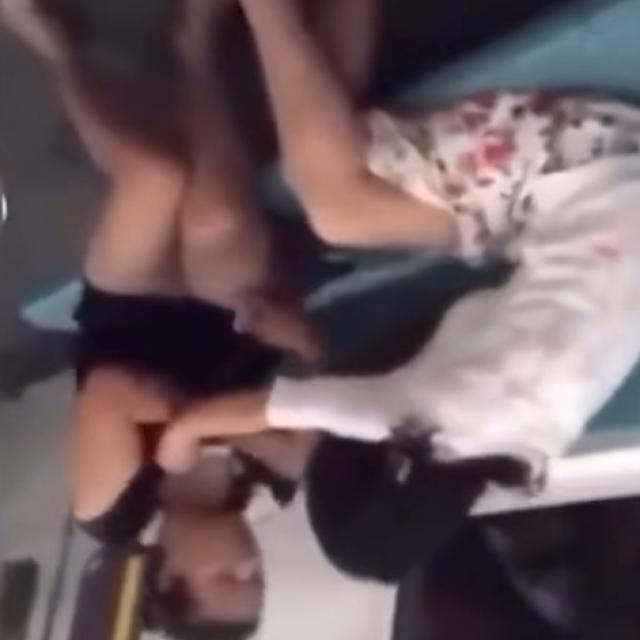fight: (29, 234, 616, 616)
